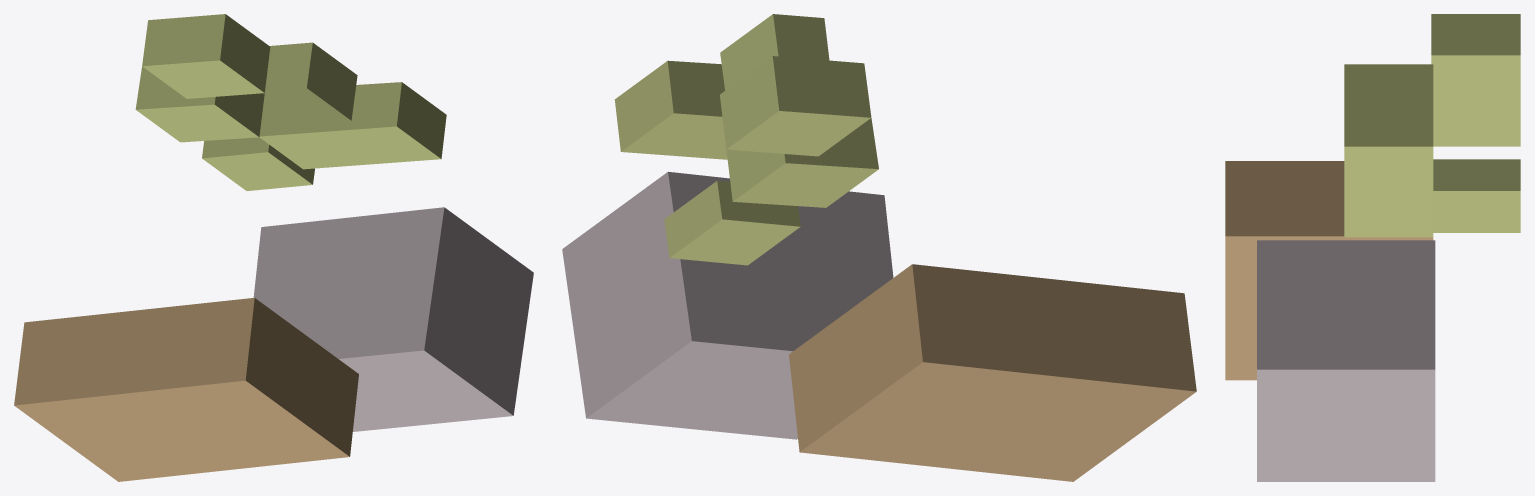
3 views of the same model, side by side, from view 1: azimuth 30°, elevation 25°; view 2: azimuth 150°, elevation 25°; view 3: azimuth 270°, elevation 25° (orthographic). The views are drawn at different scales.
Visible parts, largest first — view 1: 0_0_1_2_0_0_1_3_0; view 2: 0_0_1_2_0_0_1_3_0; view 3: 0_0_1_2_0_0_1_3_0.
Part boxes in pixels (x1,y1,x2,y2): 0_0_1_2_0_0_1_3_0: (14,14,533,481); 0_0_1_2_0_0_1_3_0: (562,14,1196,481); 0_0_1_2_0_0_1_3_0: (1225,14,1520,481).
Size of the model in its own units: 50.1 by 39.5 by 29.8.
